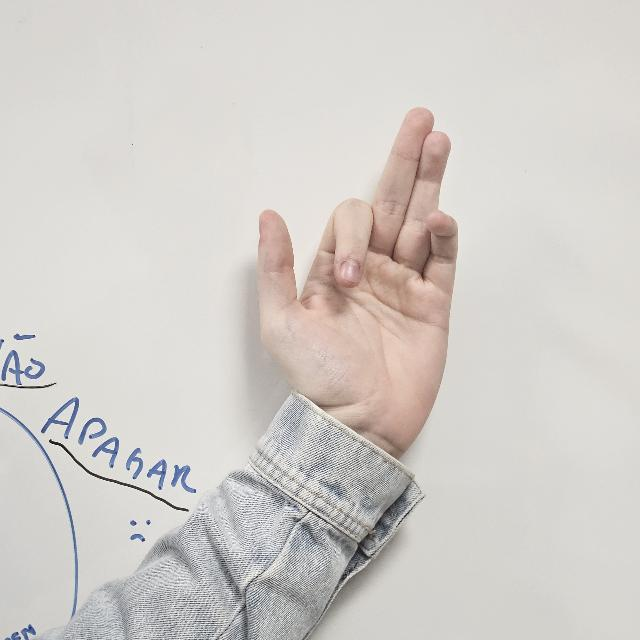R: (248, 93, 470, 465)
